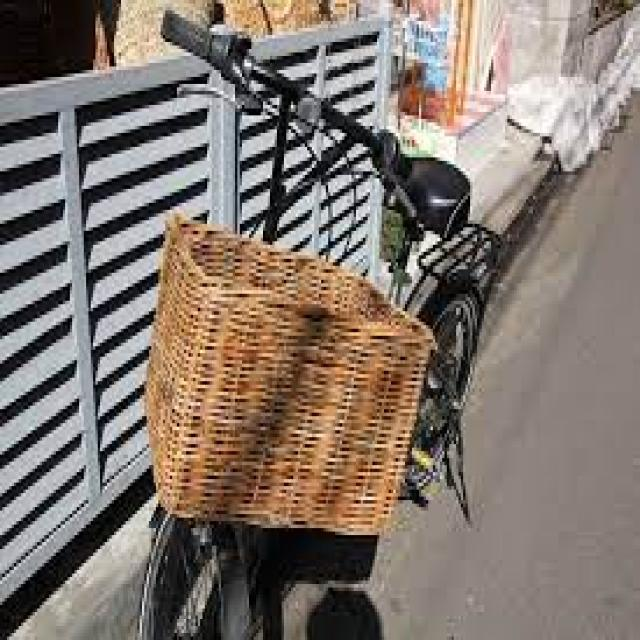basket: (146, 212, 428, 540)
